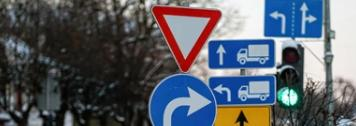green_light: (278, 44, 304, 108)
